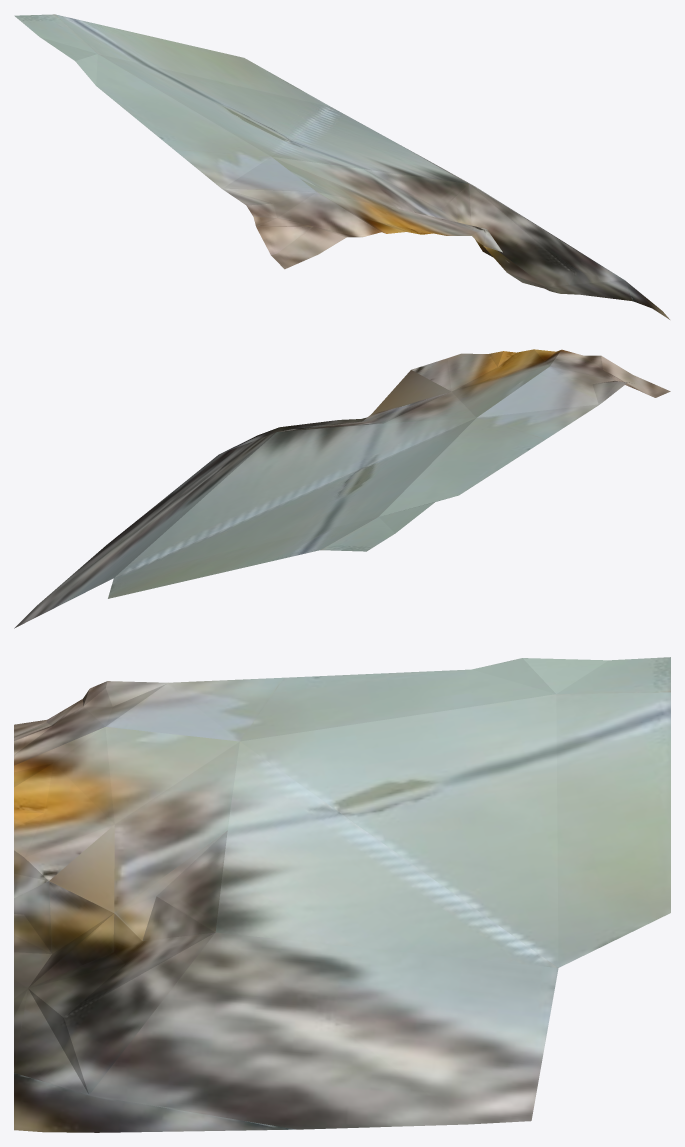
The picture shows the model from 3 angles, top to bottom: view 1: azimuth 30°, elevation 25°; view 2: azimuth 150°, elevation 25°; view 3: azimuth 270°, elevation 25°; orthographic projection. The views are drawn at different scales.
Bounding box in the file's own units: 1.4 × 0.6867 × 1.67.
2 materials, 2 textured.
